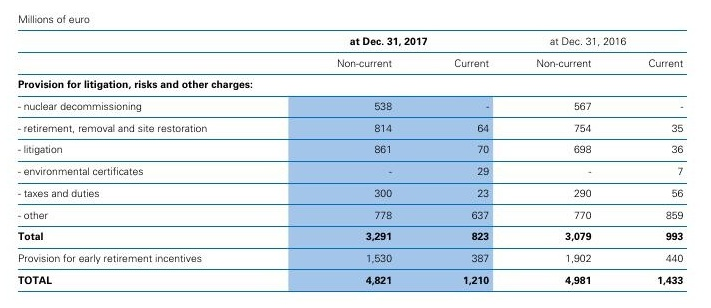table: (0, 0, 711, 308)
